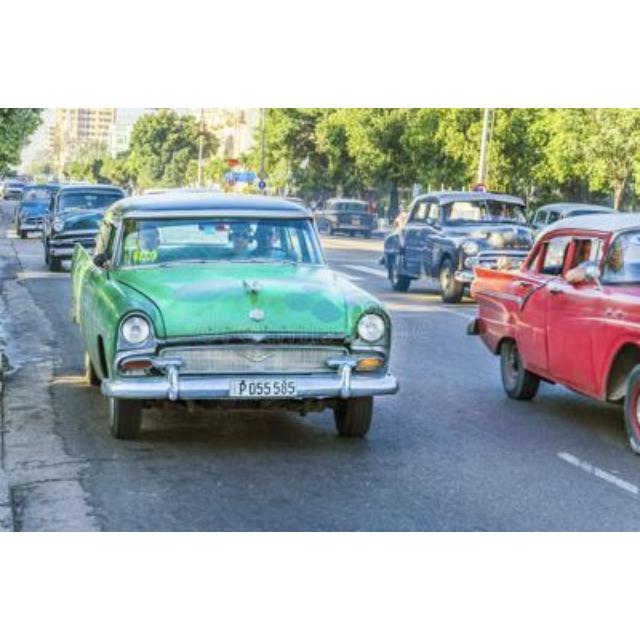car: (71, 189, 399, 443), (468, 212, 638, 442), (376, 182, 536, 294), (47, 186, 119, 270)
plate: (227, 377, 301, 399)
